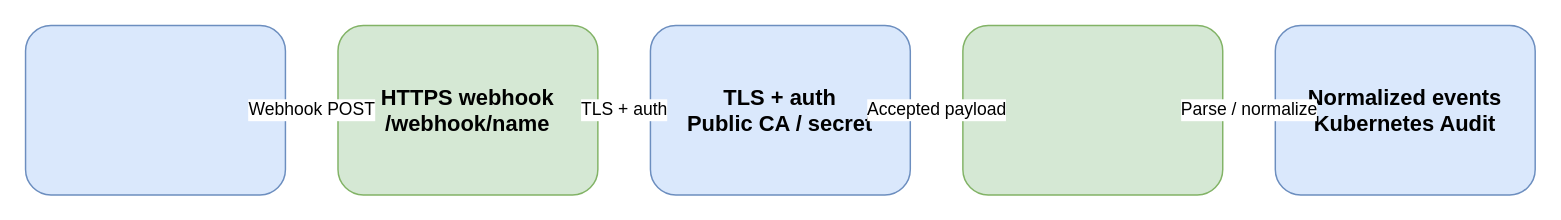
Some shapes in this 1561 by 220 pixel diagram are drawn without their labels. The centre of each missing label's shape, as x and y in pixels:
"FortiSIEM collector Credential deployed" belongs at point 1092,109.
"Kubernetes API Audit EventList" belongs at point 154,109.
